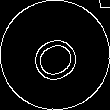O_NE: (23, 24, 88, 86)
